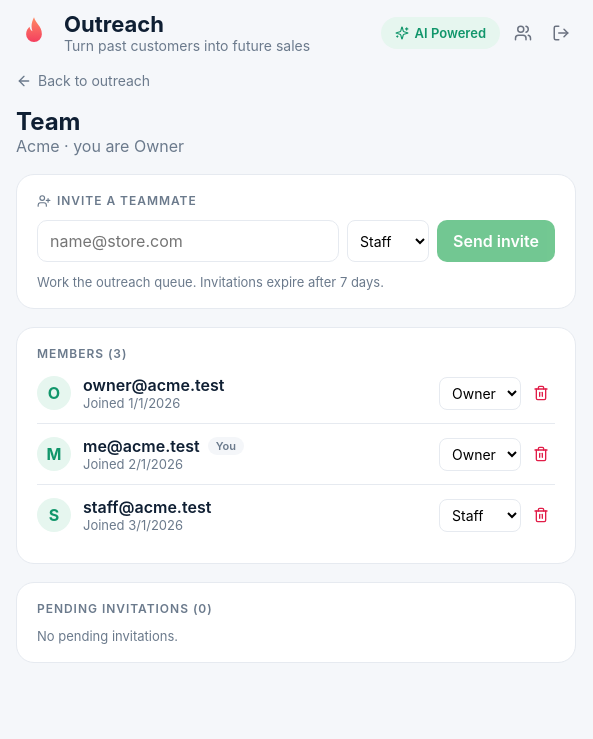
Test: Team page › shows the last-owner error from the server
Click the button named "Remove owner@acme.test" at (541, 393), box [527,379,555,407]
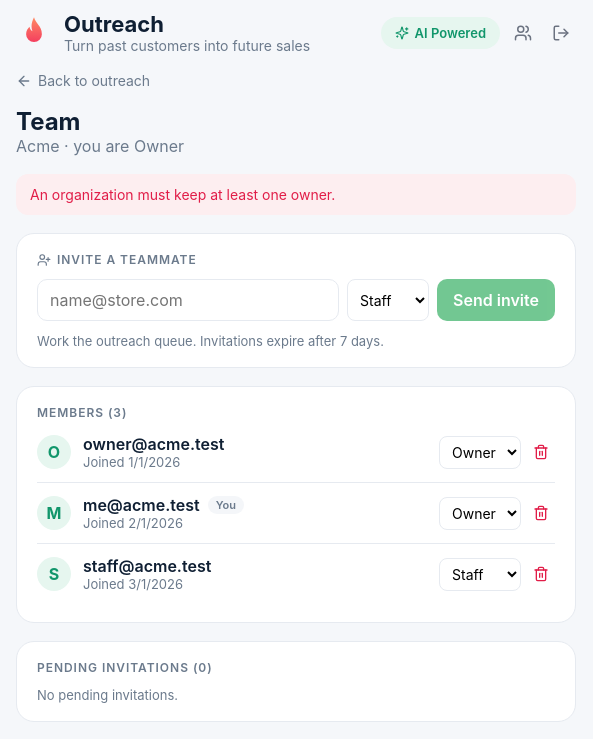
Expected: the message shows "at least one owner", [30,186,335,203]
